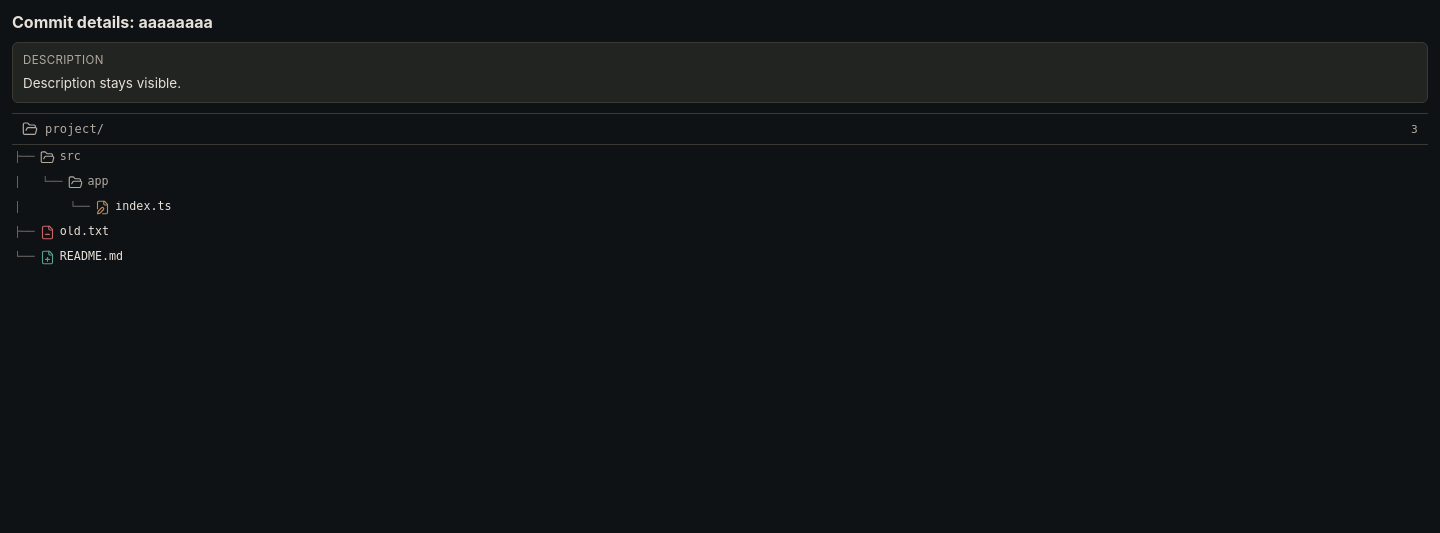
Scenario: historical commit file tree integration › loads more blame lines into the details scroll area without changing the selected file or diff
Click the button "└── README.md" at x=91, y=256, box left=12, top=245, right=1428, bottom=270
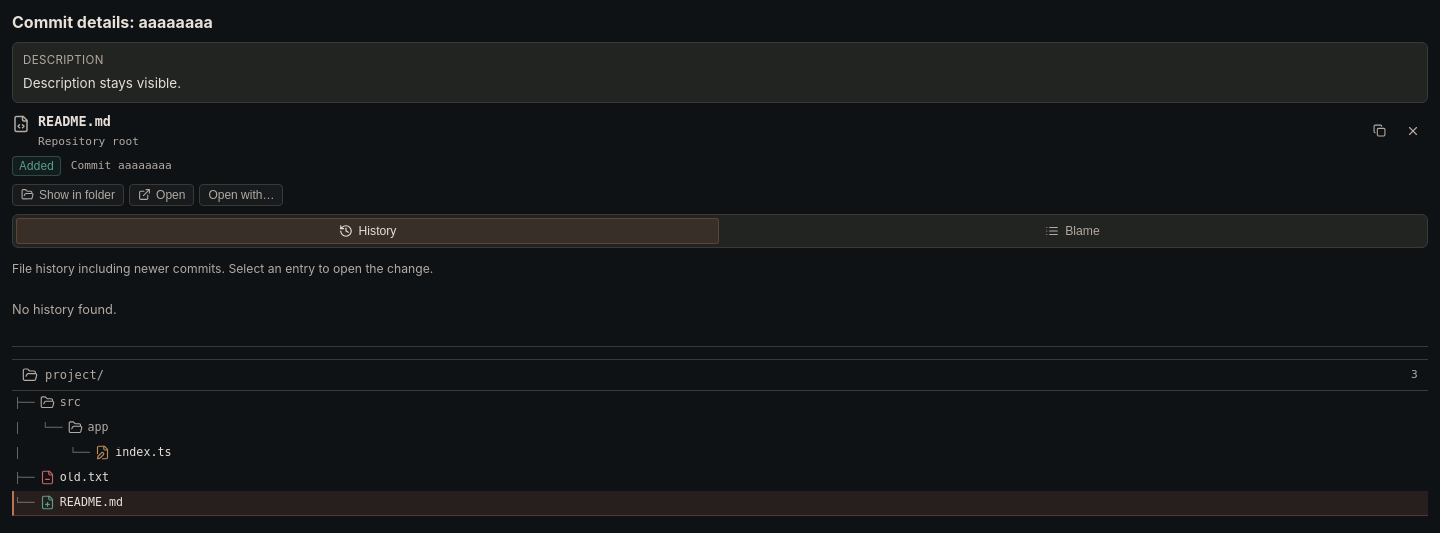
Click the button "Blame" at x=1072, y=231, box left=721, top=218, right=1424, bottom=244
(page scrolled)
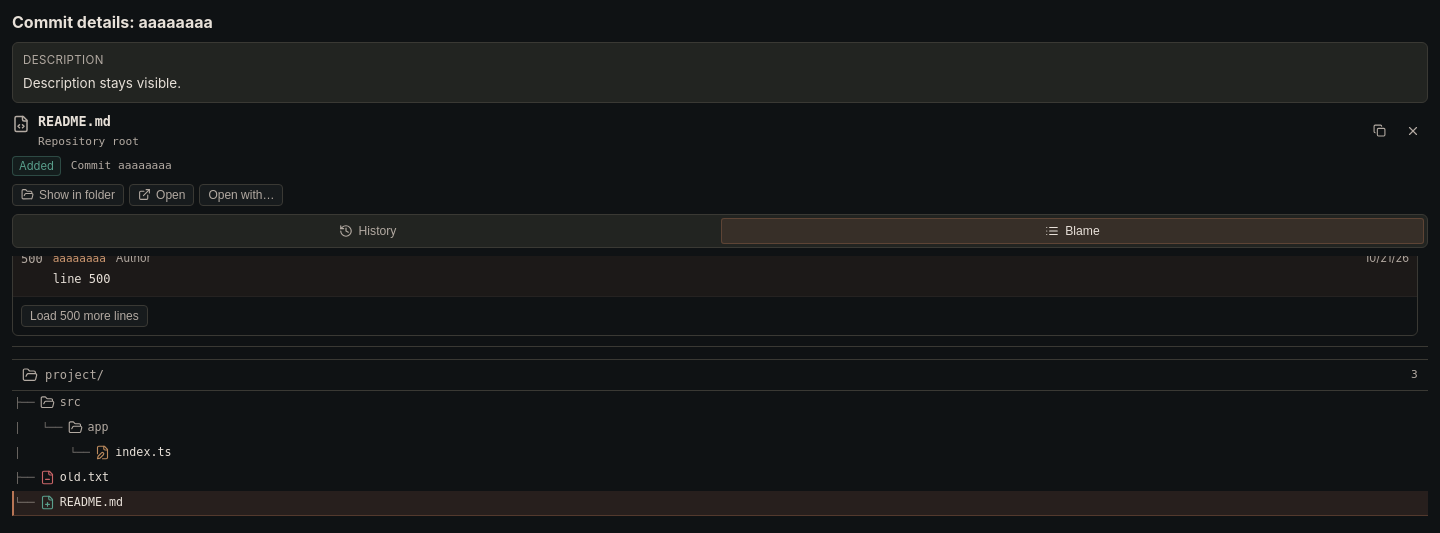
Click the button with class "file-blame-panel__more" at x=84, y=316, box left=21, top=305, right=148, bottom=327
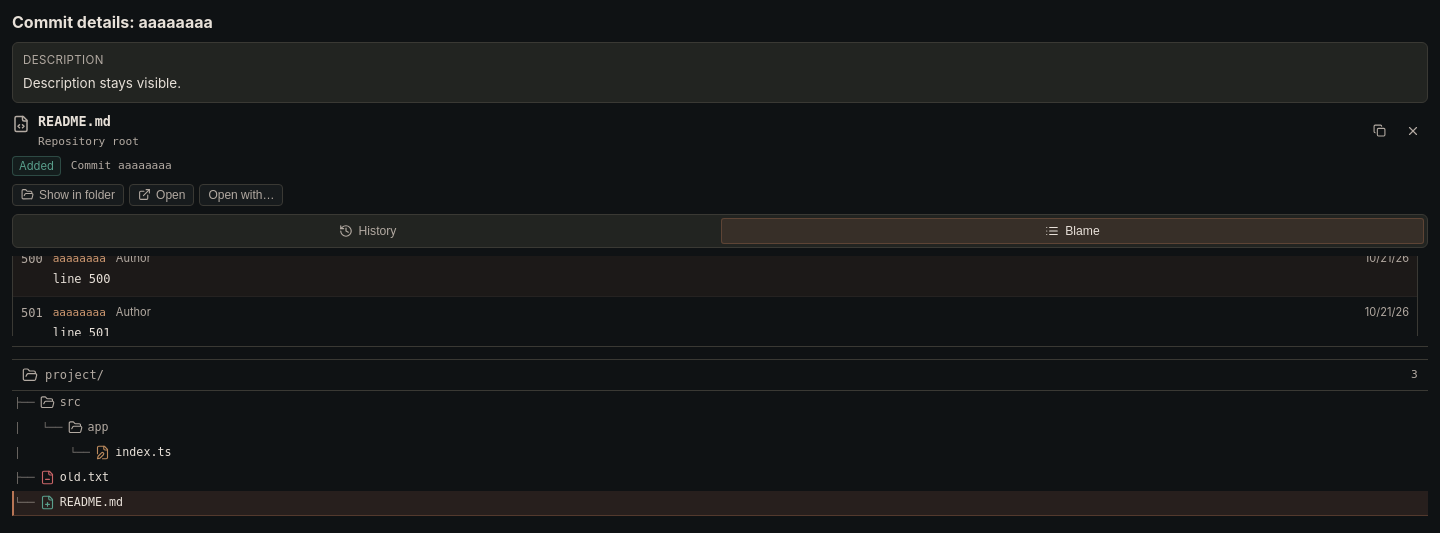
Check: the button with class "file-blame-panel__more" is gone
